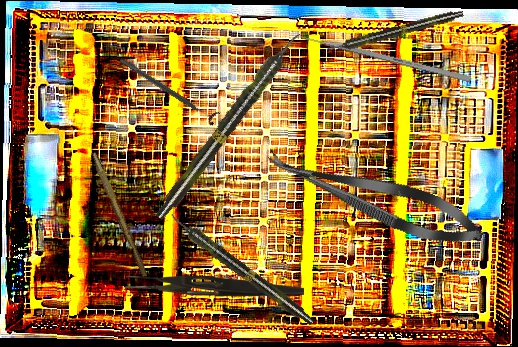Dressing Forceps: (125, 274, 305, 299)
Fixation Ring: (116, 52, 221, 127)
Handpiece: (151, 27, 306, 224), (165, 209, 318, 329), (325, 7, 465, 56)
Micro Scissor: (260, 137, 490, 258)
Pusher: (289, 30, 471, 83)
Scalpel Handle: (87, 151, 151, 278)
